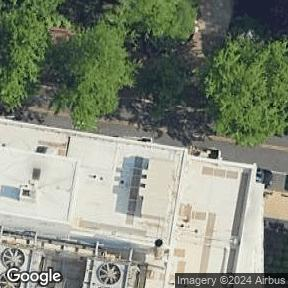vegetation: (0, 0, 288, 145)
